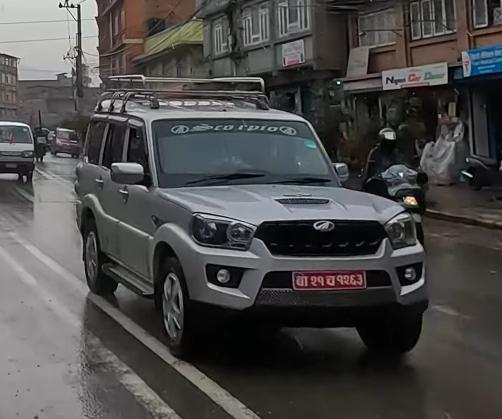SUV: (72, 71, 435, 360)
van: (0, 119, 39, 187)
